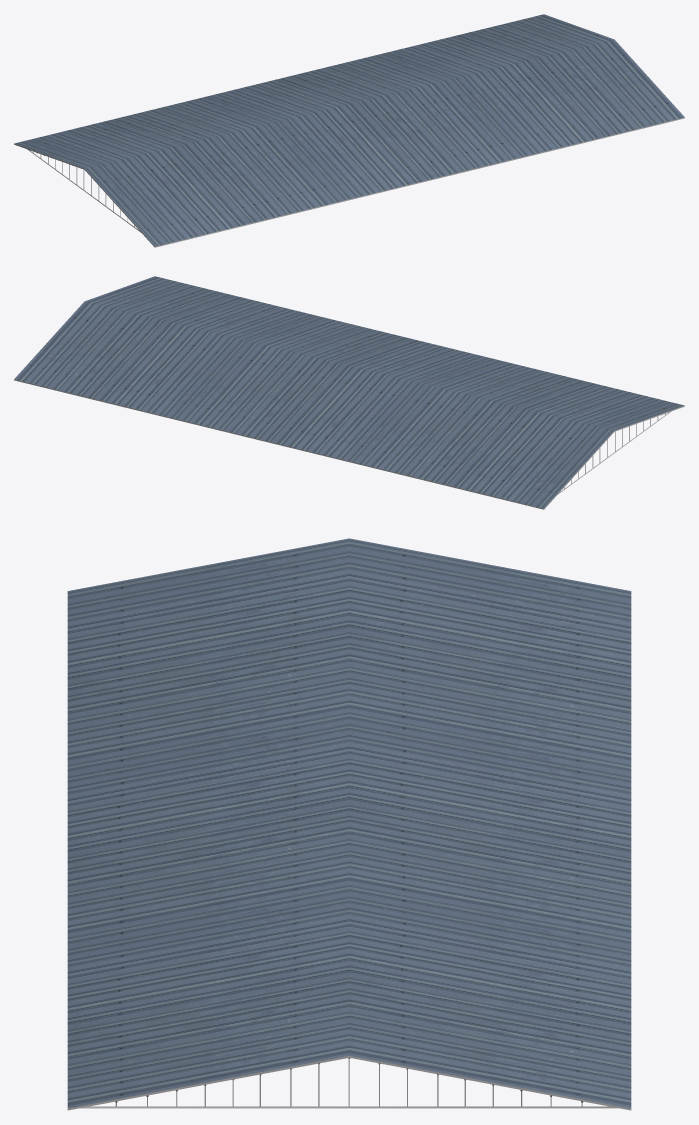
File: WarehauseRoof.FBX
3 renders of one model, top to bottom at view 1: azimuth 30°, elevation 25°; view 2: azimuth 150°, elevation 25°; view 3: azimuth 270°, elevation 25°, orthographic. The views are drawn at different scales.
Visible parts, largest first — view 1: WarehauseRoof, WarehauseRoofMetal01; view 2: WarehauseRoof, WarehauseRoofMetal01; view 3: WarehauseRoof, WarehauseRoofMetal01.
Part boxes in pixels (<box>): WarehauseRoof: <box>14,14,684,247</box>; WarehauseRoofMetal01: <box>27,149,140,232</box>; WarehauseRoof: <box>14,276,684,509</box>; WarehauseRoofMetal01: <box>558,411,671,494</box>; WarehauseRoof: <box>67,538,631,1110</box>; WarehauseRoofMetal01: <box>81,1059,617,1108</box>.
Bounding box in the file's own units: 1461 × 98.08 × 673.
